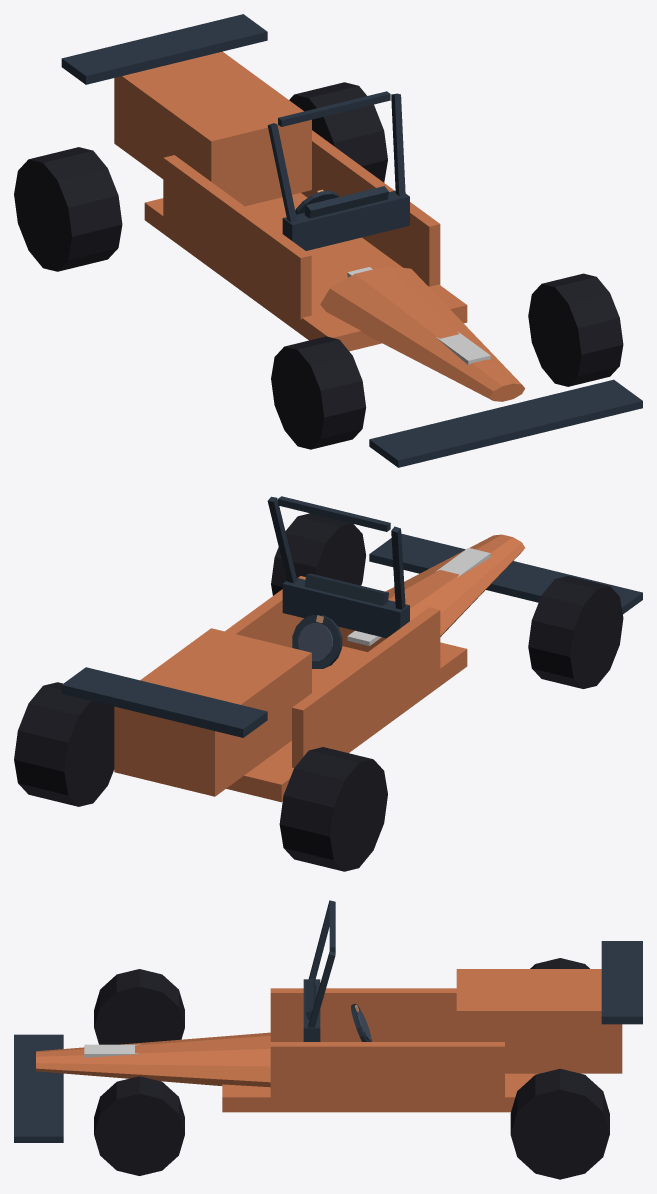
The model's file is car_player.glb.
3 views of the same model, one above another, from view 1: azimuth 30°, elevation 25°; view 2: azimuth 150°, elevation 25°; view 3: azimuth 270°, elevation 25° (orthographic). The views are drawn at different scales.
Parts seen in each view (by area): view 1: Cockpit; view 2: Cockpit, Wheel; view 3: Cockpit, Wheel.
Part boxes in pixels (left/top/right/bottom): Cockpit: left=14, top=14, right=642, bottom=467; Cockpit: left=14, top=496, right=642, bottom=871; Wheel: left=292, top=615, right=342, bottom=668; Cockpit: left=14, top=900, right=642, bottom=1179; Wheel: left=351, top=1003, right=371, bottom=1041.
Size of the model in its own units: 2.26 by 1.51 by 4.56.
